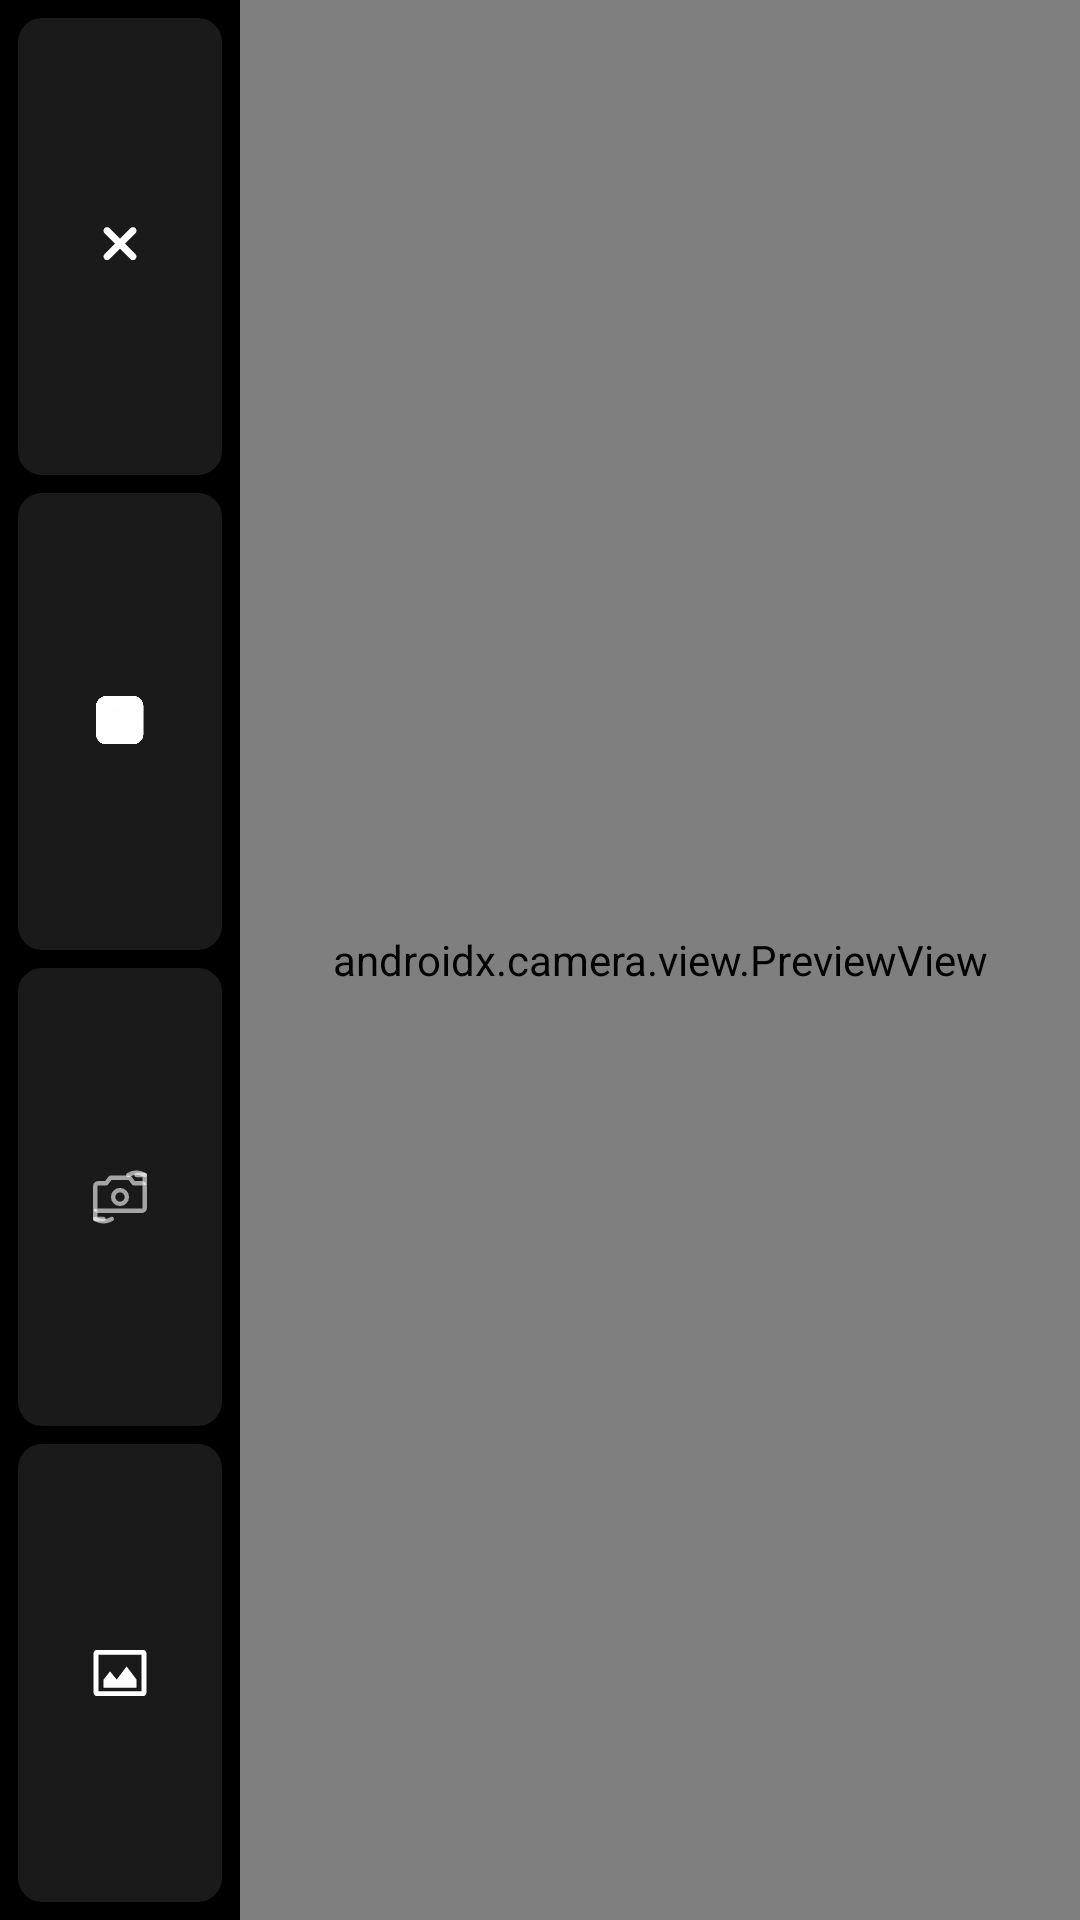

Point at icon controls on the screen. Image size 1080w x 1920h, points as [x,y].
camera switch: [120,1197]
close: [120,243]
